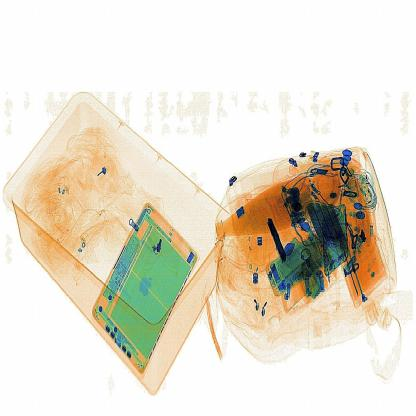knife: (261, 214, 295, 256)
